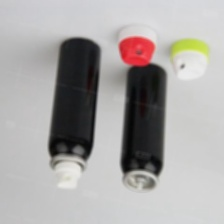aerosol_cans: (43, 34, 103, 191), (116, 60, 171, 195)
